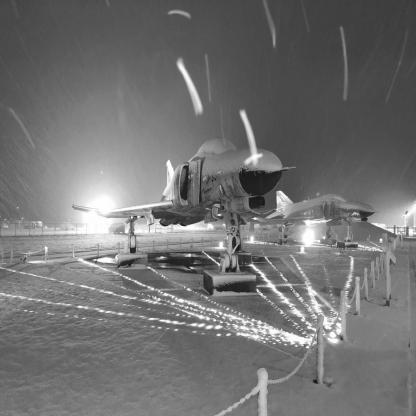F4: (72, 138, 297, 274), (251, 191, 382, 243)
